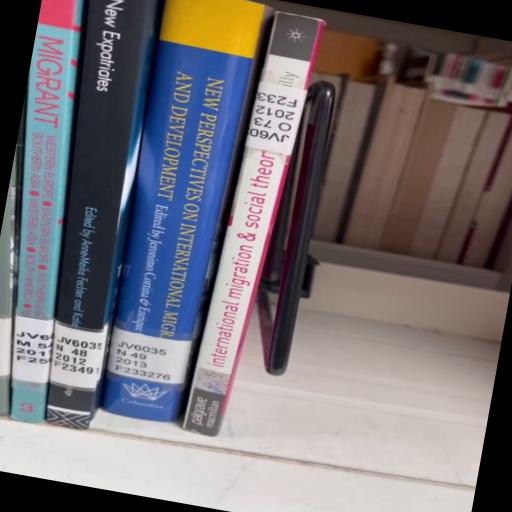reverse: (183, 12, 334, 437)
